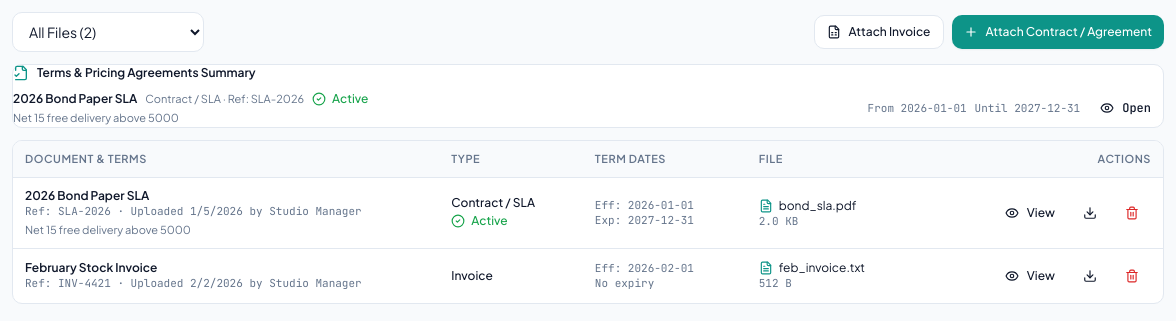
Test: SupplierDocumentsPanel › filters documents by type, uploads new attachments, and confirms deletion
Later steps or results of the test are not shown.
Expected: the text "February Stock Invoice" is shown, [25,260,157,275]
Select "Invoices (1)" in the dropdown named "Filter supplier documents" at (108, 32), box [12,12,204,52]
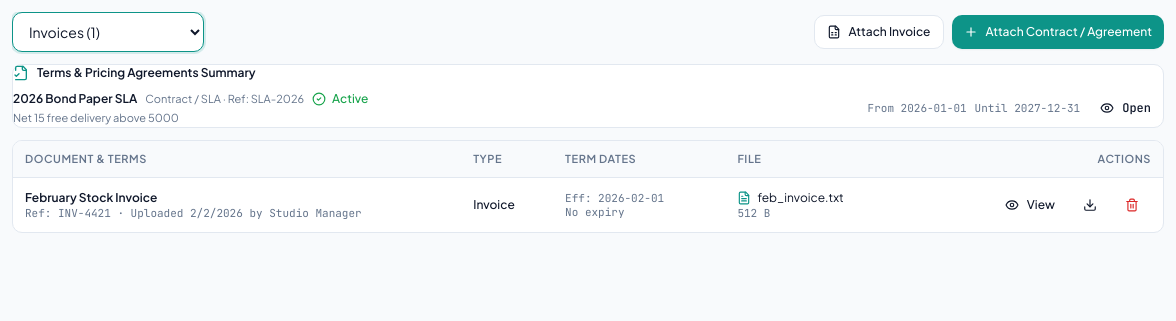
Expected: the text "February Stock Invoice" is shown, [25,190,157,205]
Expected: the text "bond_sla.pdf" is gone
